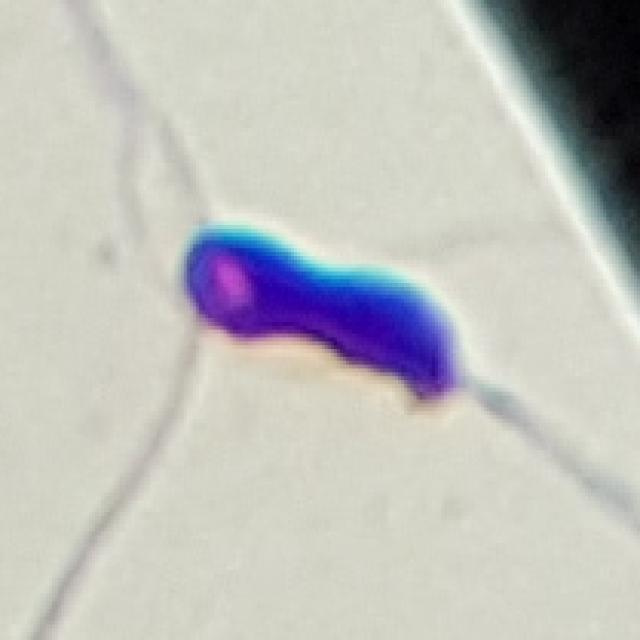abnormal sperm: (181, 218, 559, 458)
